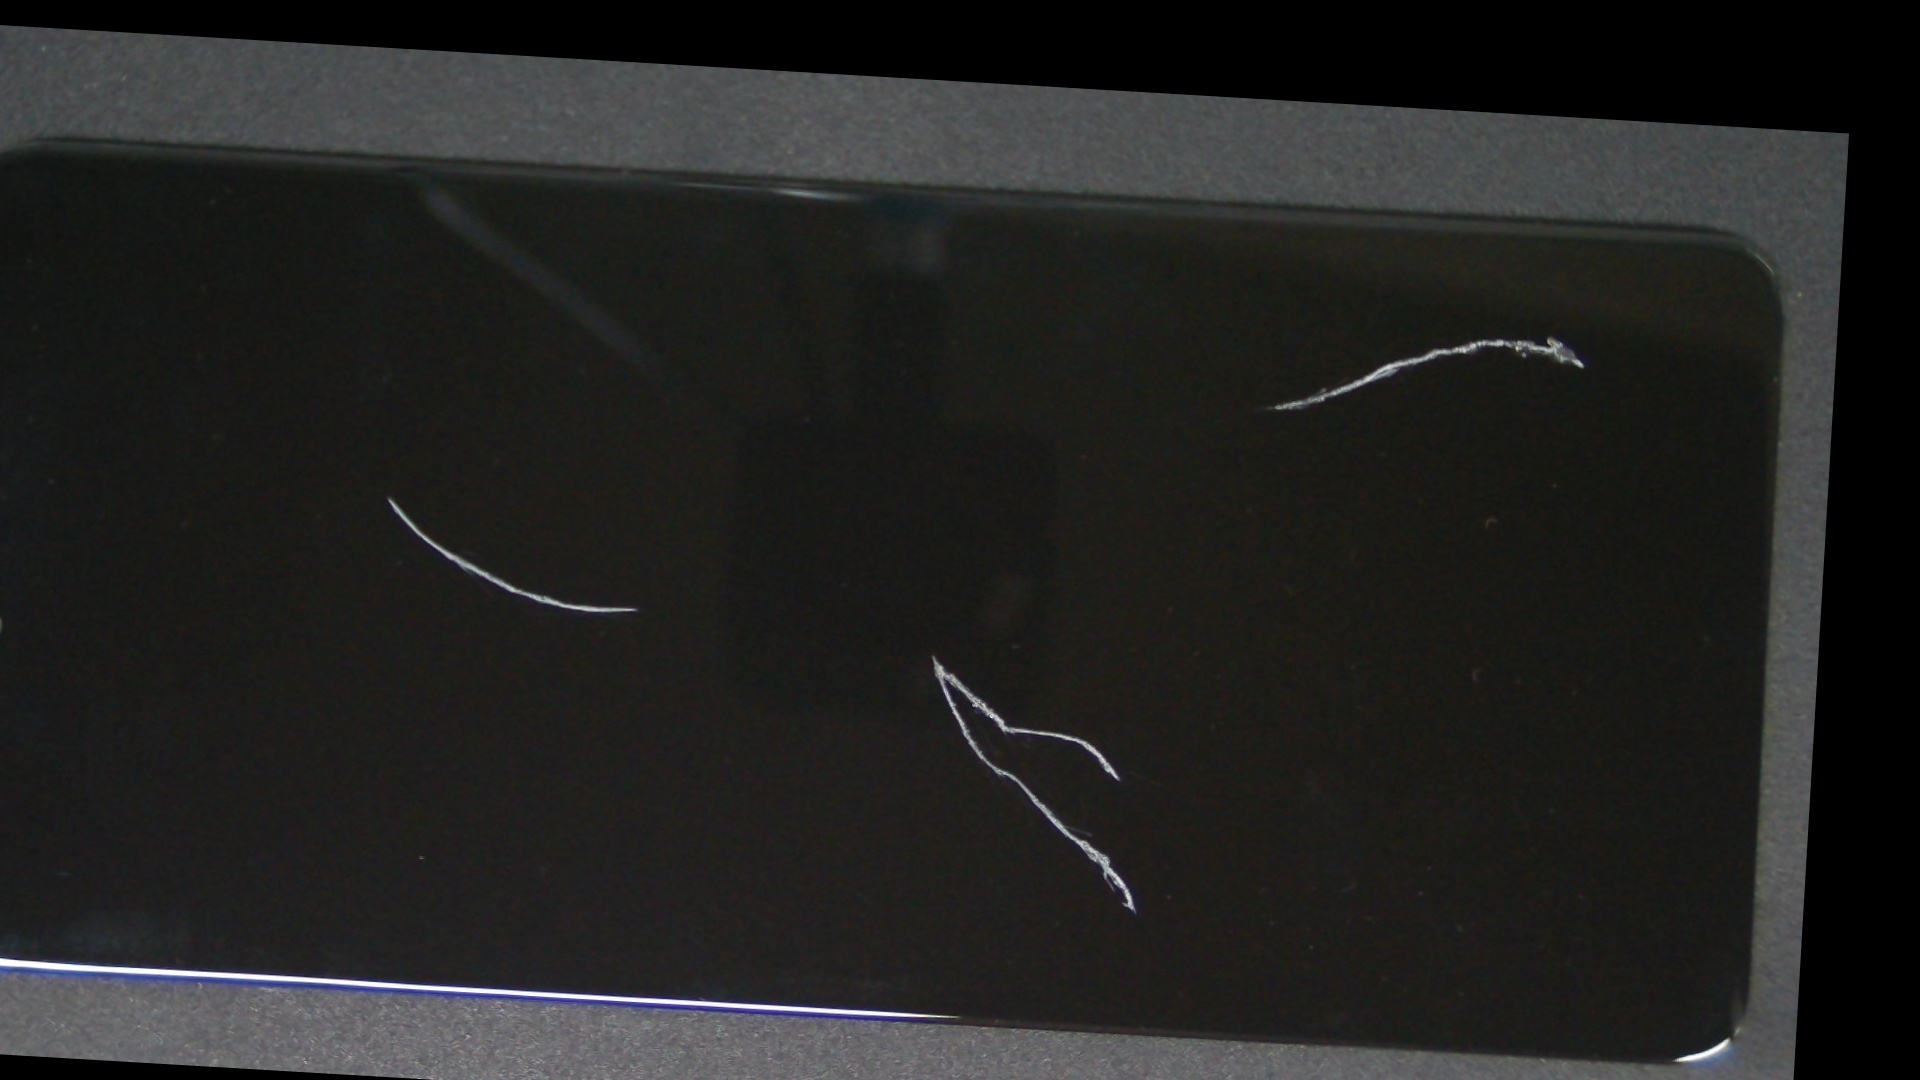oil: (411, 335, 1452, 972), (741, 178, 1842, 464), (146, 257, 626, 733)
